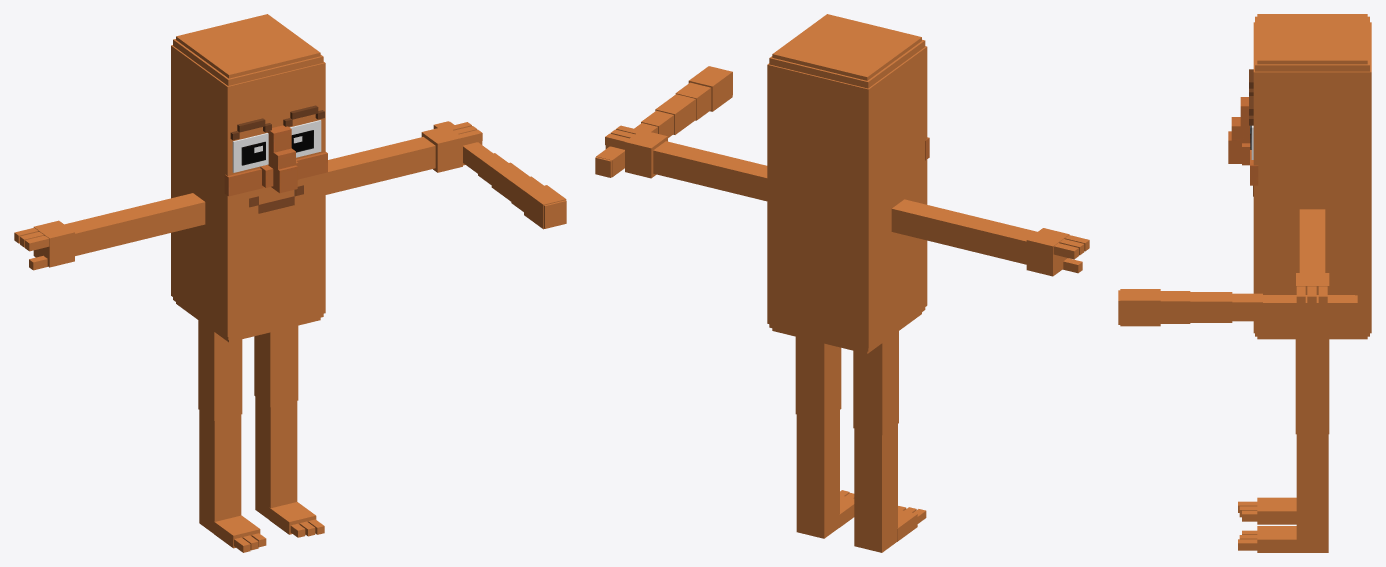
Rendered from tung_tung_tung_sahur.glb.
3 views of the same model, side by side, from view 1: azimuth 30°, elevation 25°; view 2: azimuth 150°, elevation 25°; view 3: azimuth 270°, elevation 25° (orthographic). The views are drawn at different scales.
Visible parts, largest first — view 1: Object_3, Object_2; view 2: Object_3; view 3: Object_3, Object_2.
Boxes of the visible parts, x1=… form: Object_3: x1=14, y1=14, x2=566, y2=552; Object_2: x1=224, y1=105, x2=327, y2=213; Object_3: x1=595, y1=14, x2=1089, y2=552; Object_3: x1=1118, y1=14, x2=1371, y2=552; Object_2: x1=1228, y1=69, x2=1258, y2=196.
Size of the model in its own units: 9.24 by 9.24 by 4.29.
2 materials, 1 textured.
